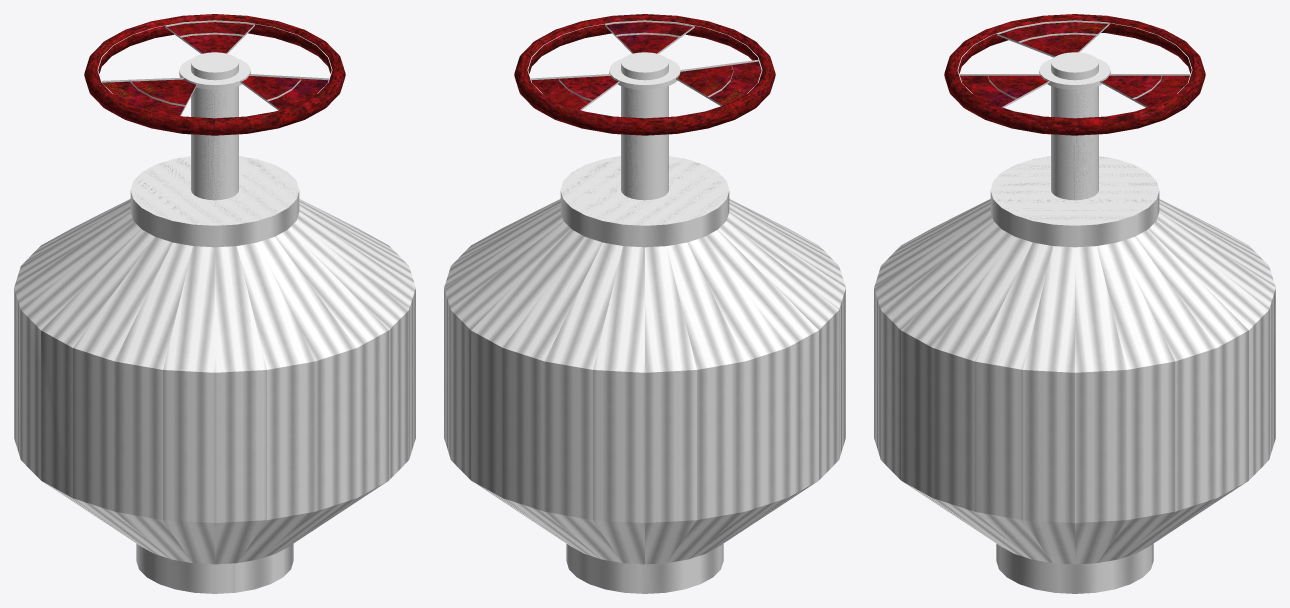
Rendered from 回用水给水管阀门.dae.
3 views of the same model, side by side, from view 1: azimuth 30°, elevation 25°; view 2: azimuth 150°, elevation 25°; view 3: azimuth 270°, elevation 25° (orthographic).
Parts seen in each view (by area): view 1: SketchUp (×9); view 2: SketchUp (×9); view 3: SketchUp (×9).
Part boxes in pixels (left/top/right/bottom): SketchUp (×9): left=14, top=14, right=415, bottom=593; SketchUp (×9): left=444, top=14, right=845, bottom=593; SketchUp (×9): left=874, top=14, right=1275, bottom=593.
Size of the model in its own units: 23.62 by 23.62 by 32.31.
